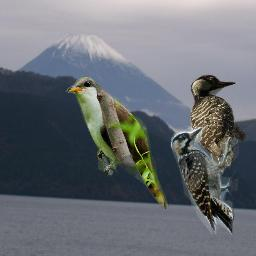Cuckoo: (63, 77, 174, 210)
Woodpecker: (170, 127, 239, 236), (190, 74, 248, 175)
